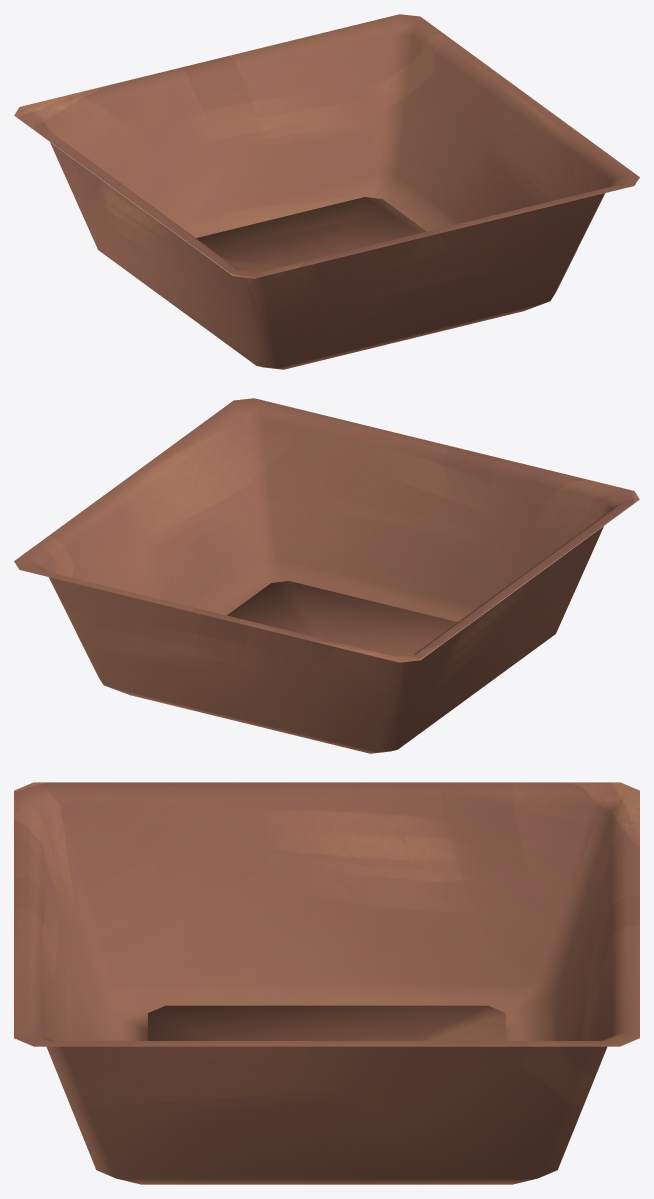
Rendered from FruitContainer.fbx.
3 views of the same model, one above another, from view 1: azimuth 30°, elevation 25°; view 2: azimuth 150°, elevation 25°; view 3: azimuth 270°, elevation 25° (orthographic). The views are drawn at different scales.
Visible parts, largest first — view 1: FruitContainer; view 2: FruitContainer; view 3: FruitContainer.
Part boxes in pixels (x1=…): FruitContainer: x1=14, y1=14, x2=639, y2=369; FruitContainer: x1=14, y1=398, x2=639, y2=753; FruitContainer: x1=14, y1=782, x2=639, y2=1184.
Bounding box in the file's own units: 57.8 × 18.73 × 57.8.
